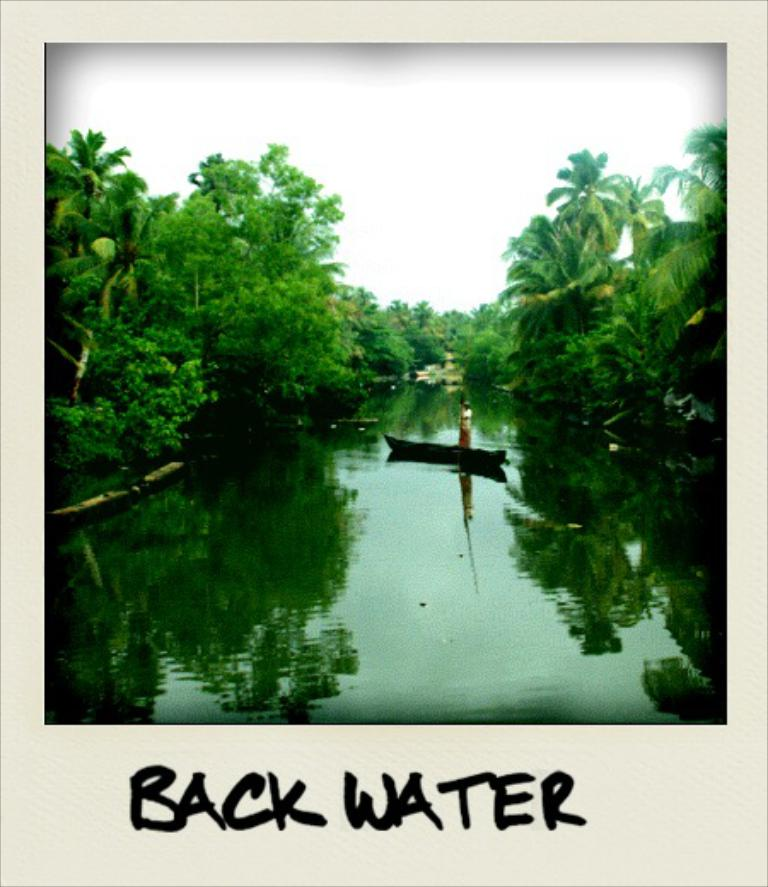Tree: (95, 114, 404, 550), (409, 114, 737, 376)
